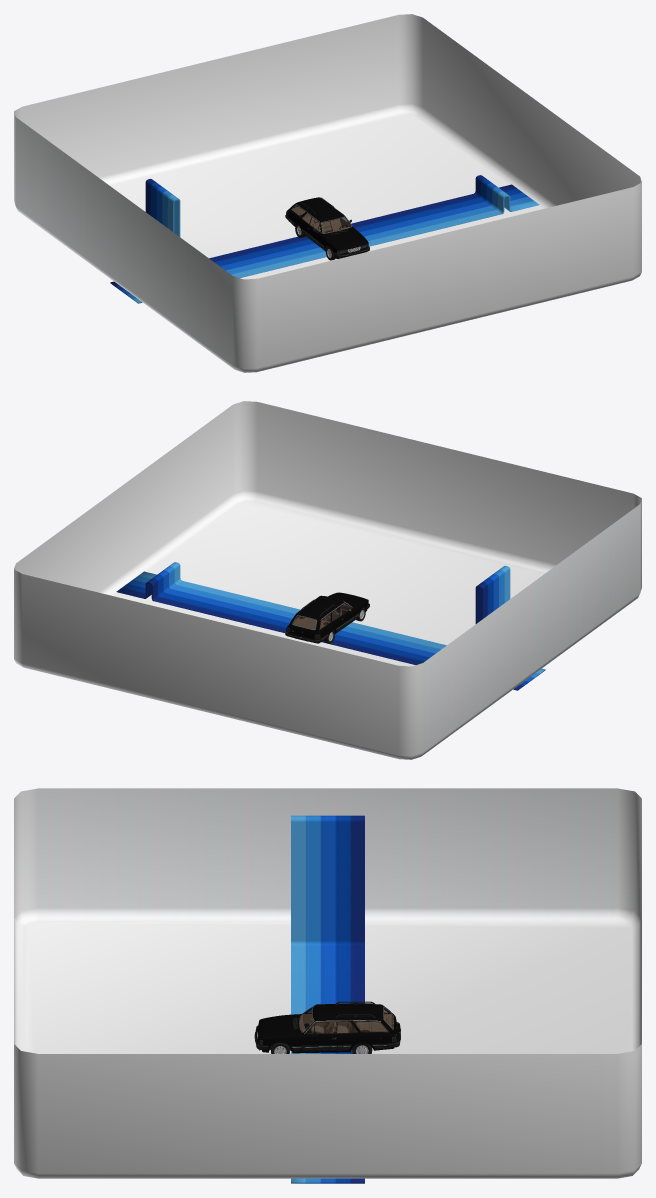
File: tcc_model-landingpage.glb
3 views of the same model, one above another, from view 1: azimuth 30°, elevation 25°; view 2: azimuth 150°, elevation 25°; view 3: azimuth 270°, elevation 25° (orthographic). The views are drawn at different scales.
Parts seen in each view (by area): view 1: floor.002, floor, body, trim, interior main; view 2: floor.002, floor, body, trim; view 3: floor.002, floor, body, trim, interior main.
Boxes of the visible parts, box(x1,y1,x2,y2) form: floor.002: box(14, 14, 641, 372); floor: box(110, 175, 539, 303); body: box(286, 197, 368, 258); trim: box(285, 197, 369, 258); interior main: box(291, 207, 350, 233); floor.002: box(14, 401, 641, 759); floor: box(116, 562, 545, 690); body: box(286, 592, 368, 643); trim: box(285, 599, 369, 643); floor.002: box(14, 788, 641, 1178); floor: box(291, 815, 364, 1183); body: box(257, 1004, 396, 1053); trim: box(254, 1001, 400, 1051); interior main: box(299, 1013, 392, 1033).
Bounding box in the file's own units: 18.98 × 4.32 × 18.98.
Materials: 8 (8 with a texture image).
